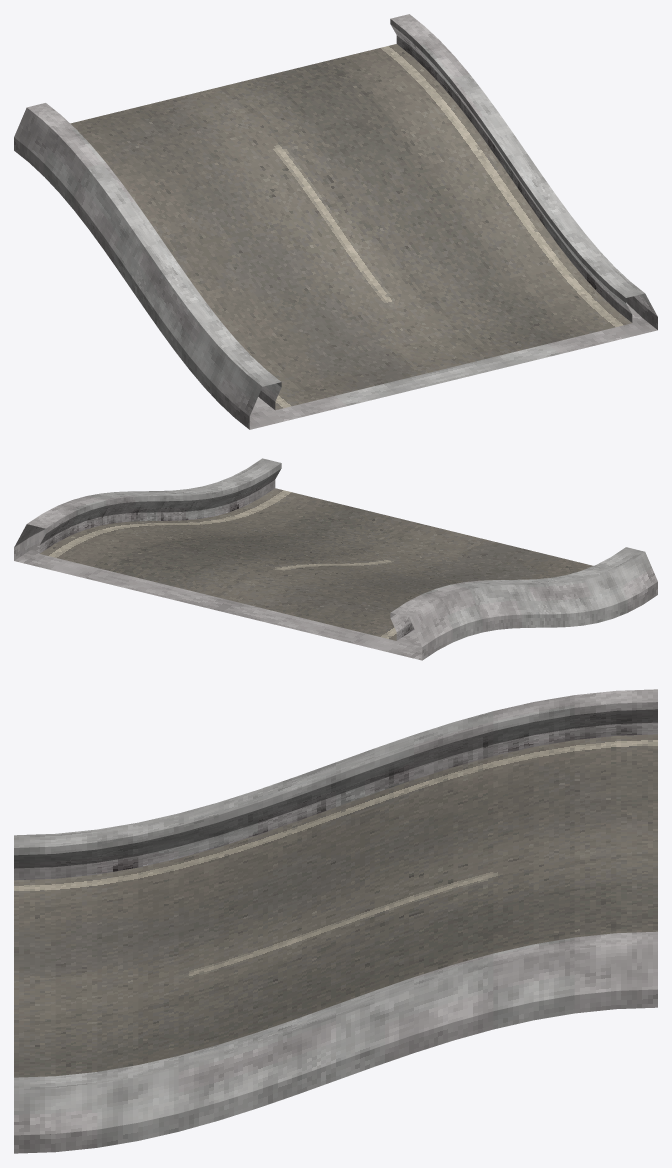
File: straight1.glb
3 views of the same model, one above another, from view 1: azimuth 30°, elevation 25°; view 2: azimuth 150°, elevation 25°; view 3: azimuth 270°, elevation 25° (orthographic). The views are drawn at different scales.
Visible parts, largest first — view 1: road-Straight-Flat-Flat-Up1-Center-Size1; view 2: road-Straight-Flat-Flat-Up1-Center-Size1; view 3: road-Straight-Flat-Flat-Up1-Center-Size1.
Part boxes in pixels (<box>): road-Straight-Flat-Flat-Up1-Center-Size1: <box>14,14,657,429</box>; road-Straight-Flat-Flat-Up1-Center-Size1: <box>14,458,657,660</box>; road-Straight-Flat-Flat-Up1-Center-Size1: <box>14,689,657,1153</box>.
Size of the model in its own units: 1 by 0.3438 by 1.
Materials: 2 (2 with a texture image).
